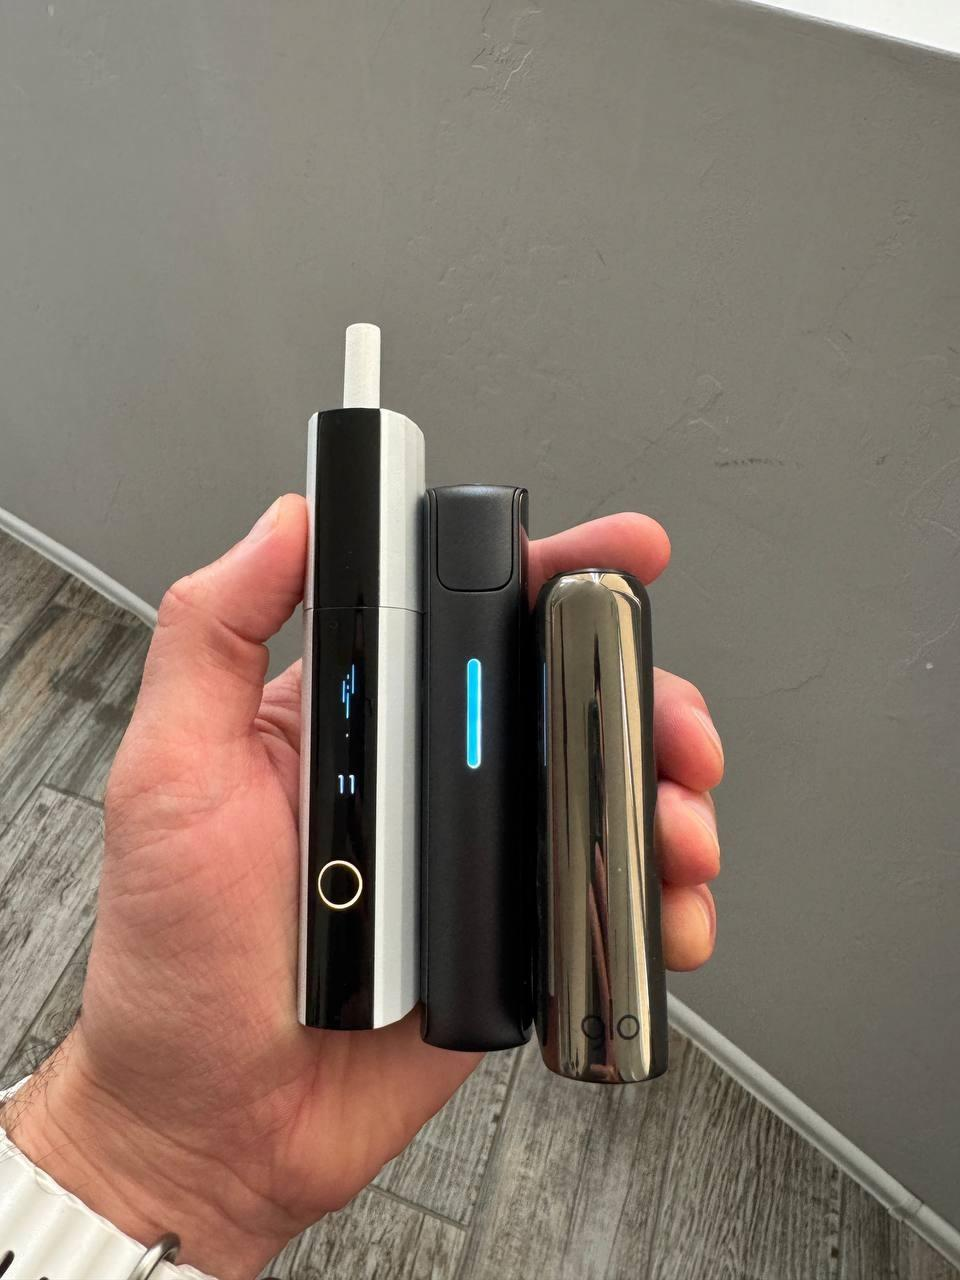iqos: (299, 323, 425, 1027)
